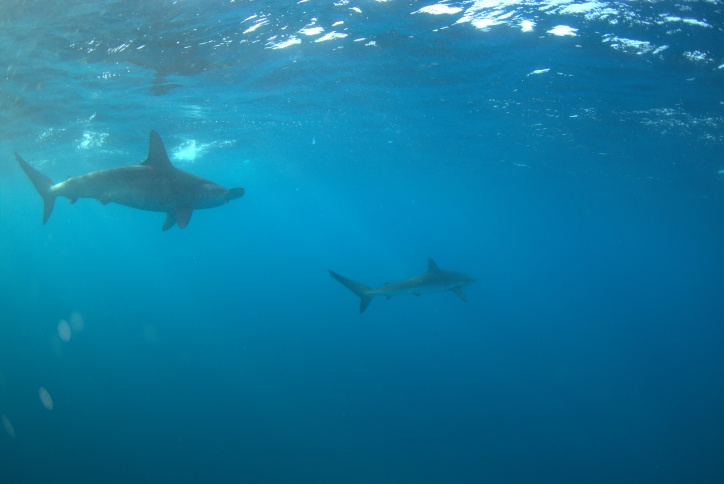Hammer: (11, 129, 261, 243)
